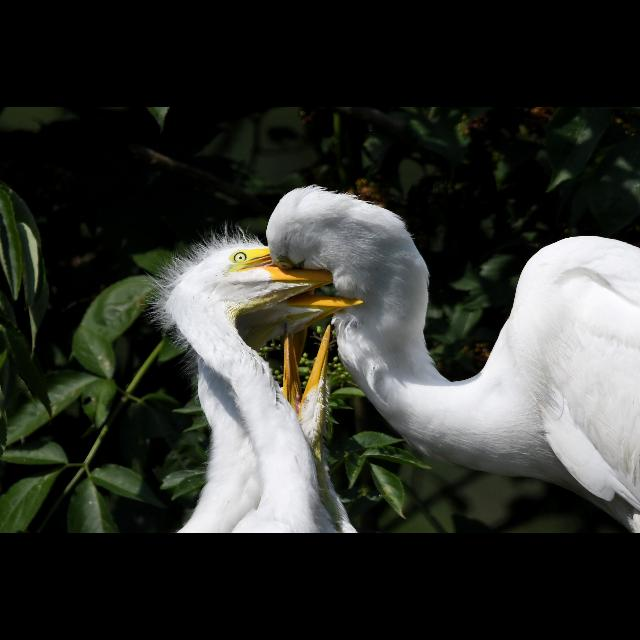egret: (266, 182, 640, 486), (148, 206, 348, 534)
